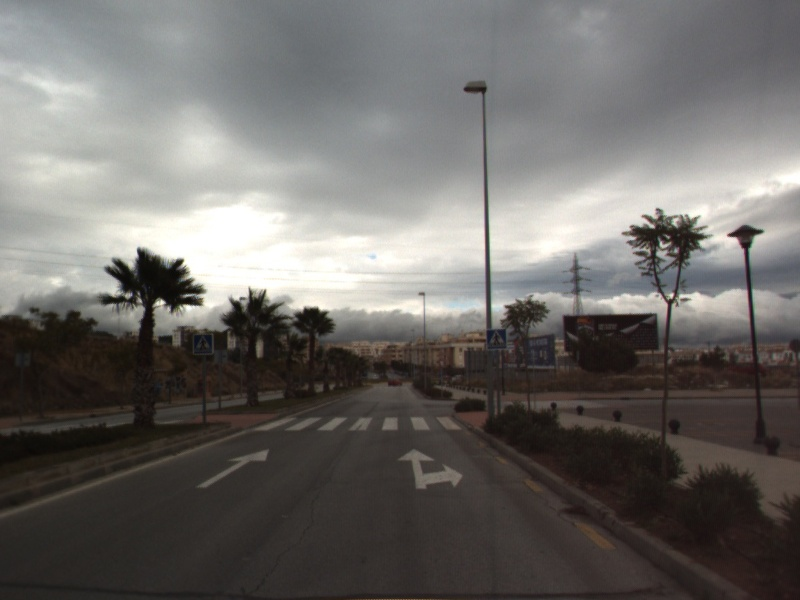STRAIGHT: (194, 447, 271, 490)
STRAIGHT_RIGHT: (395, 446, 465, 491)
